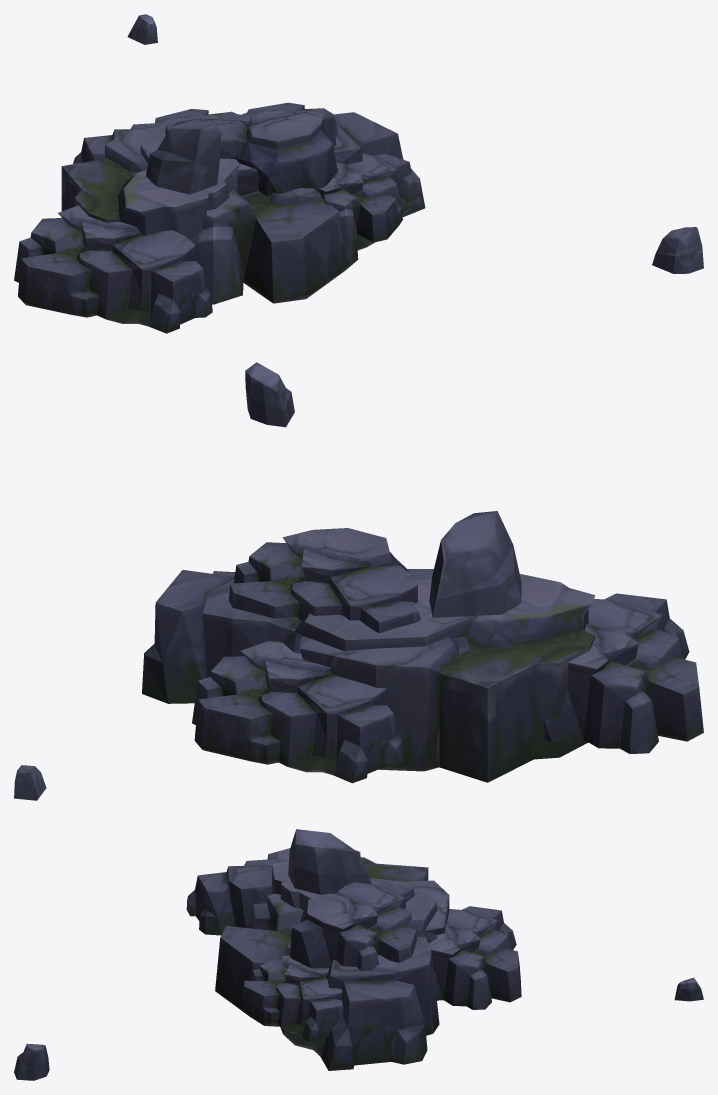
The model's file is Area12_17.fbx.
The picture shows the model from 3 angles, top to bottom: view 1: azimuth 30°, elevation 25°; view 2: azimuth 150°, elevation 25°; view 3: azimuth 270°, elevation 25°; orthographic projection. The views are drawn at different scales.
Visible parts, largest first — view 1: Area12_17; view 2: Area12_17; view 3: Area12_17.
Boxes of the visible parts, left/top/right/bottom form: Area12_17: left=14, top=14, right=703, bottom=333; Area12_17: left=14, top=362, right=703, bottom=800; Area12_17: left=14, top=829, right=703, bottom=1080.
Size of the model in its own units: 3642 by 1011 by 4645.
